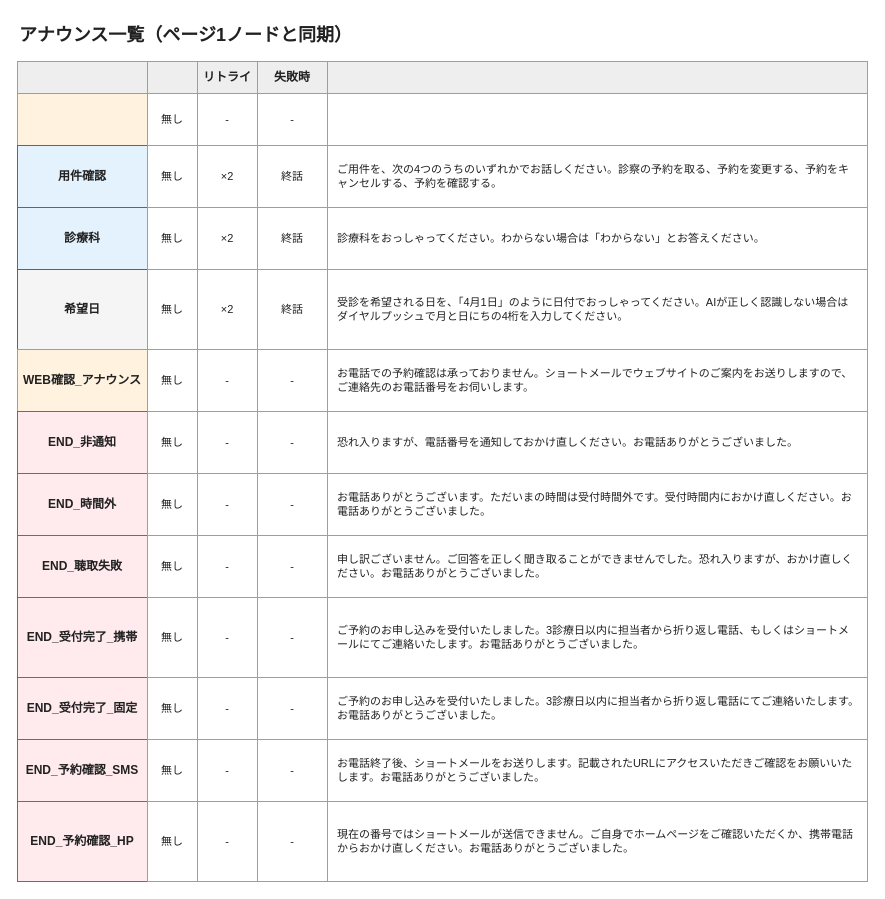
Image size: 885x899. Some labels were removed from this diagram. The shapes that lost their labels are listed below. From the top down, each one's centre as x and y in pixels, then its label:
the point at 82,77: 聴取項目
the point at 172,77: 復唱
the point at 597,77: 発話文言
the point at 82,119: 冒頭_アナウンス
the point at 597,119: お電話ありがとうございます。{施設名}の予約専用、AI電話です。
